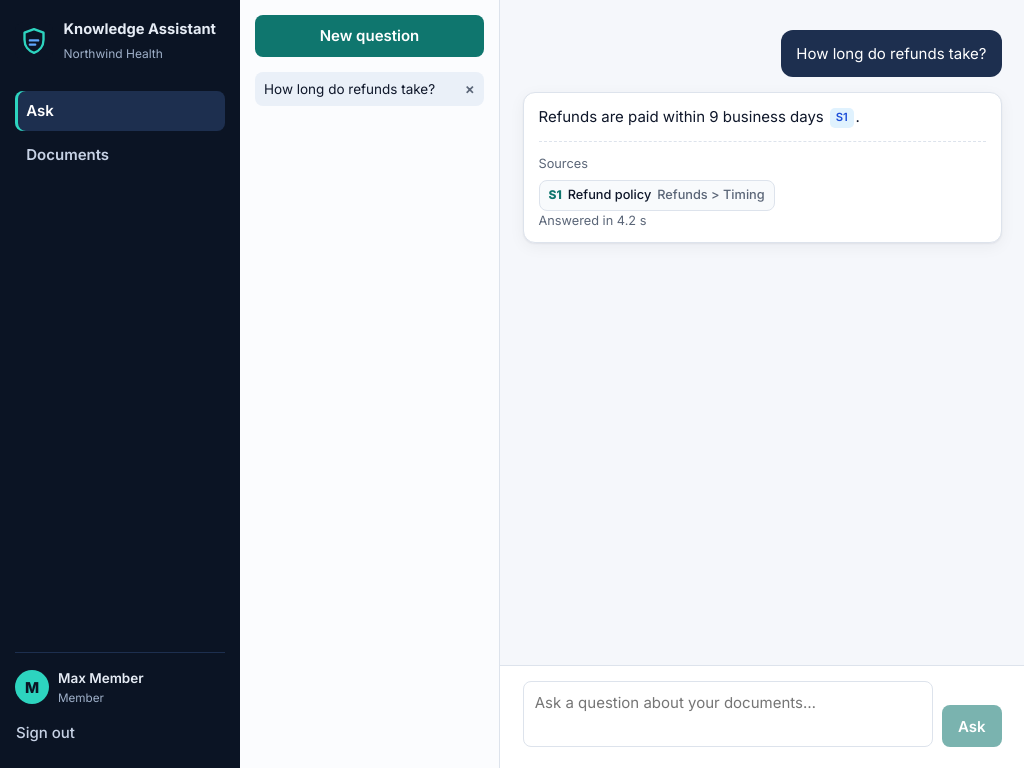
chat › opens the cited passage in a drawer
Click the button named "Open source S1": click(842, 118) x1=830 y1=108 x2=854 y2=128
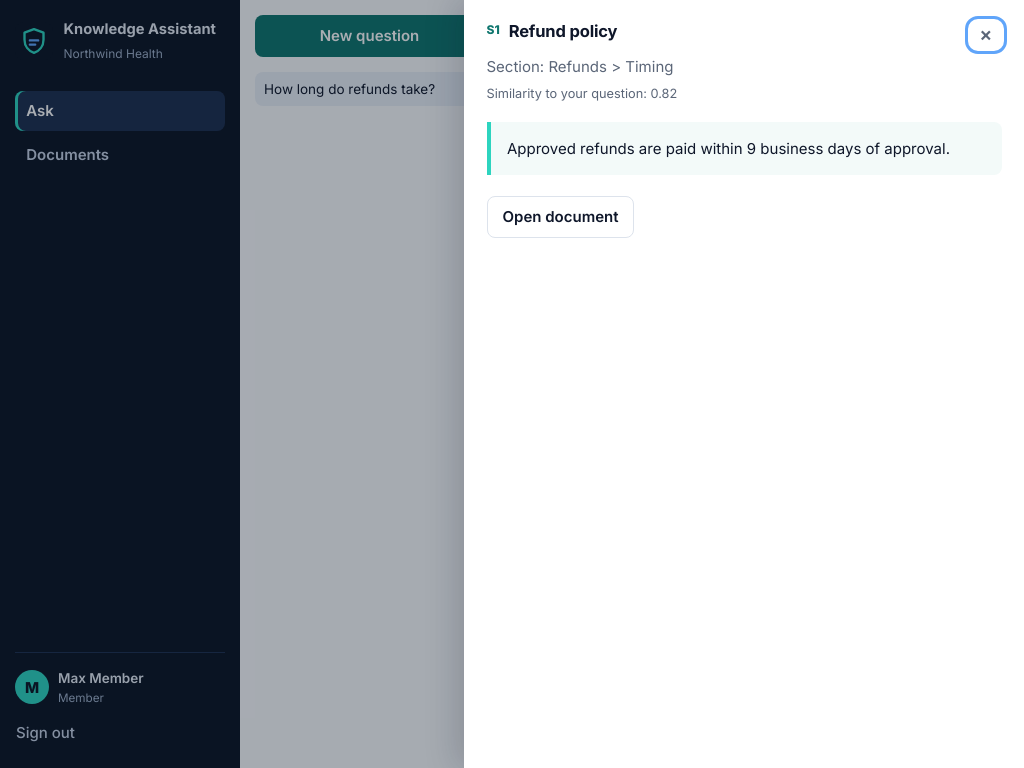
Expected: the text with test id "passage-text" reads "Approved refunds are paid within 9 business days of approval.", x1=507 y1=138 x2=950 y2=158
Press Escape
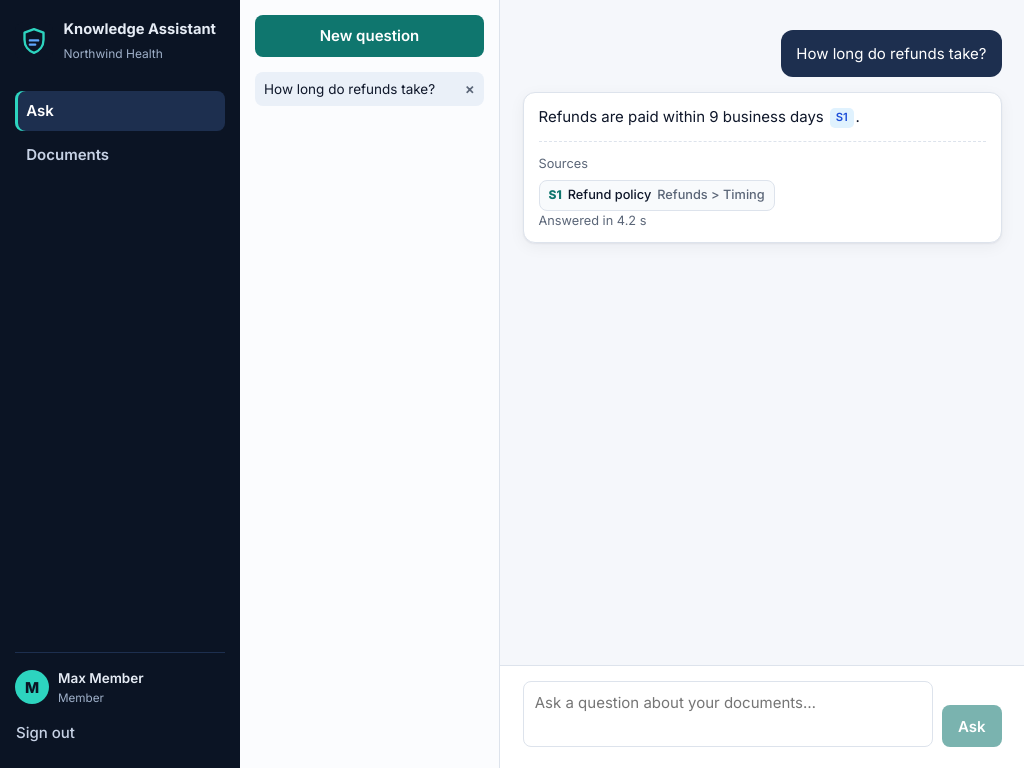
Expected: the dialog is gone
